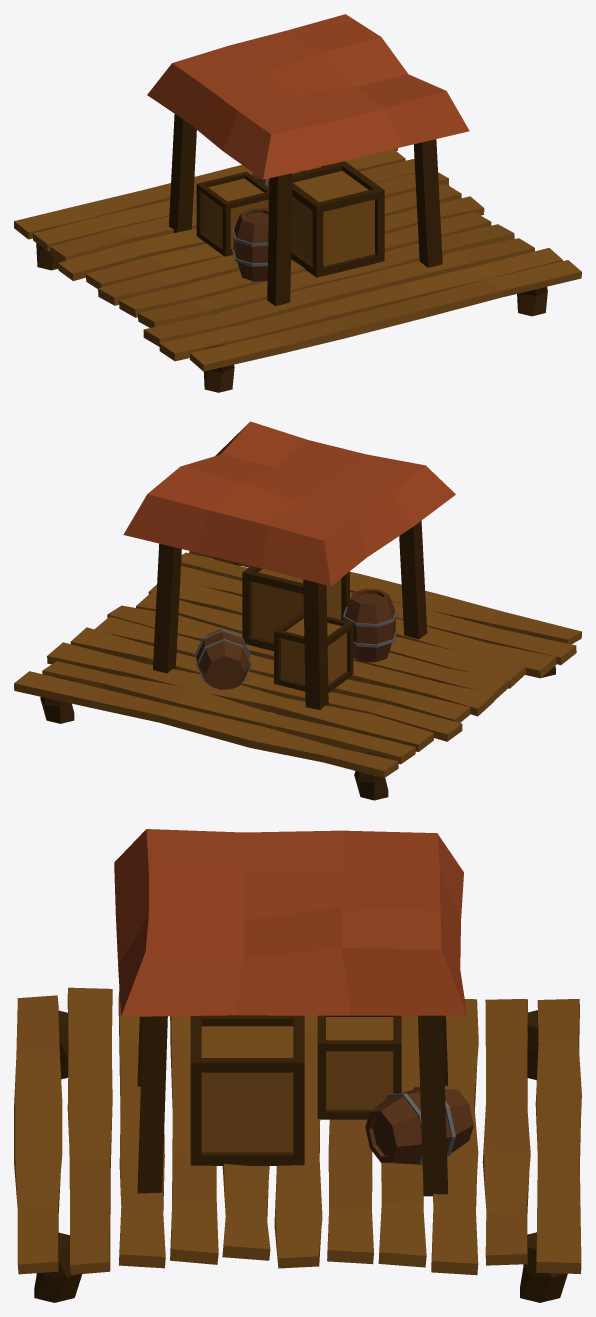
The model's file is Market2.fbx.
3 renders of one model, top to bottom at view 1: azimuth 30°, elevation 25°; view 2: azimuth 150°, elevation 25°; view 3: azimuth 270°, elevation 25°, orthographic. The views are drawn at different scales.
Visible parts, largest first — view 1: Cube.350; view 2: Cube.350; view 3: Cube.350.
Boxes of the visible parts, x1,y1,x2,y2 form: Cube.350: (14,14,581,392); Cube.350: (14,421,581,800); Cube.350: (14,829,581,1302).
Size of the model in its own units: 3.87 by 2.02 by 3.36.
